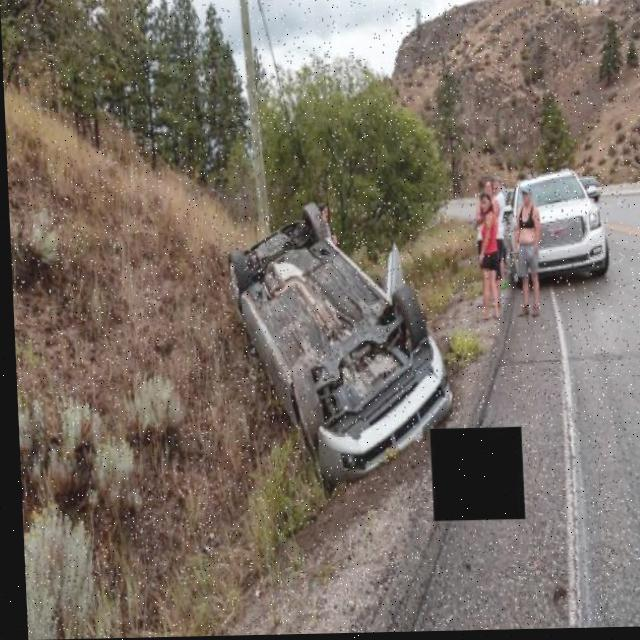normal: (471, 151, 616, 327)
single accident: (206, 194, 451, 466)
